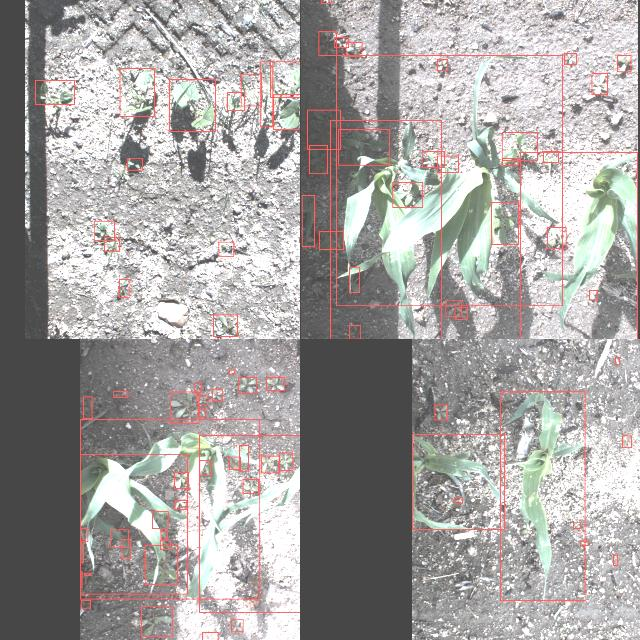crop: (336, 56, 562, 306), (80, 420, 260, 598), (330, 120, 441, 339), (520, 152, 638, 339), (199, 435, 300, 612), (500, 392, 584, 600), (80, 454, 188, 594), (412, 434, 504, 530), (168, 79, 216, 131), (120, 68, 154, 116), (270, 61, 300, 96), (34, 81, 74, 105), (273, 94, 300, 129), (302, 196, 314, 247), (80, 528, 88, 542), (80, 539, 82, 563), (80, 571, 82, 587)
weed: (338, 130, 390, 164), (306, 110, 340, 150), (144, 545, 178, 585), (492, 202, 518, 244), (502, 132, 538, 160), (140, 606, 172, 636), (170, 392, 198, 424), (392, 182, 422, 208), (260, 62, 272, 126), (241, 74, 261, 106), (309, 144, 327, 174), (213, 315, 237, 337), (318, 231, 344, 249), (318, 31, 336, 55), (94, 221, 114, 241), (548, 228, 566, 248), (437, 156, 459, 172), (422, 151, 444, 167), (592, 74, 608, 95), (228, 92, 245, 110), (238, 377, 256, 393), (261, 456, 279, 472), (110, 530, 128, 546), (349, 267, 359, 293), (446, 300, 462, 316), (152, 512, 168, 528), (266, 377, 284, 391), (218, 242, 234, 256), (104, 237, 120, 251), (346, 42, 362, 56), (617, 56, 631, 72), (243, 479, 259, 493), (174, 472, 188, 488), (118, 279, 130, 297), (280, 453, 292, 471), (240, 445, 248, 471), (199, 460, 211, 476), (434, 404, 446, 420), (82, 397, 91, 418), (128, 158, 142, 170), (454, 308, 468, 320), (122, 539, 130, 559), (348, 326, 359, 339), (544, 152, 558, 162), (334, 38, 348, 48), (232, 618, 242, 632), (502, 158, 518, 166), (564, 54, 576, 64), (212, 389, 222, 401), (230, 457, 240, 469), (175, 500, 187, 510), (202, 632, 217, 640), (622, 436, 632, 448), (437, 60, 448, 70), (160, 540, 170, 550), (196, 396, 208, 404), (113, 391, 127, 397), (590, 290, 598, 300), (80, 600, 90, 608), (612, 554, 618, 566), (198, 408, 206, 416), (195, 383, 201, 393), (161, 531, 167, 539), (580, 540, 588, 546), (574, 523, 580, 529), (614, 358, 620, 364), (320, 0, 331, 3), (454, 498, 462, 502), (229, 370, 235, 374), (84, 572, 90, 576)
